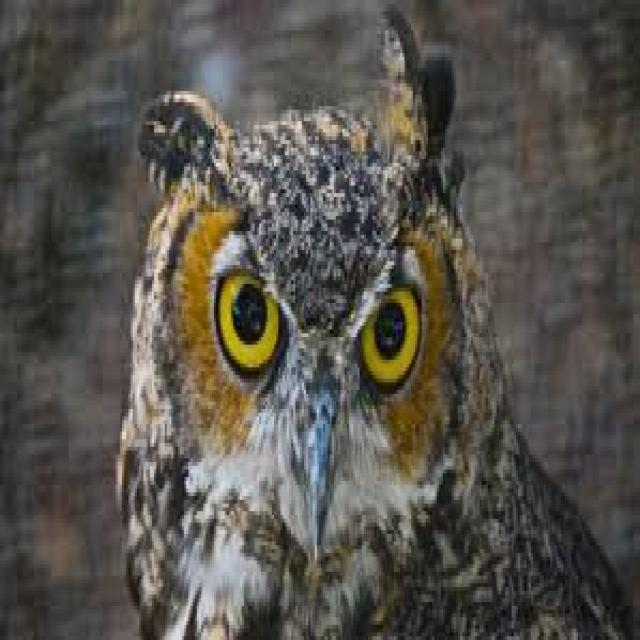Owl: (96, 11, 640, 640)
